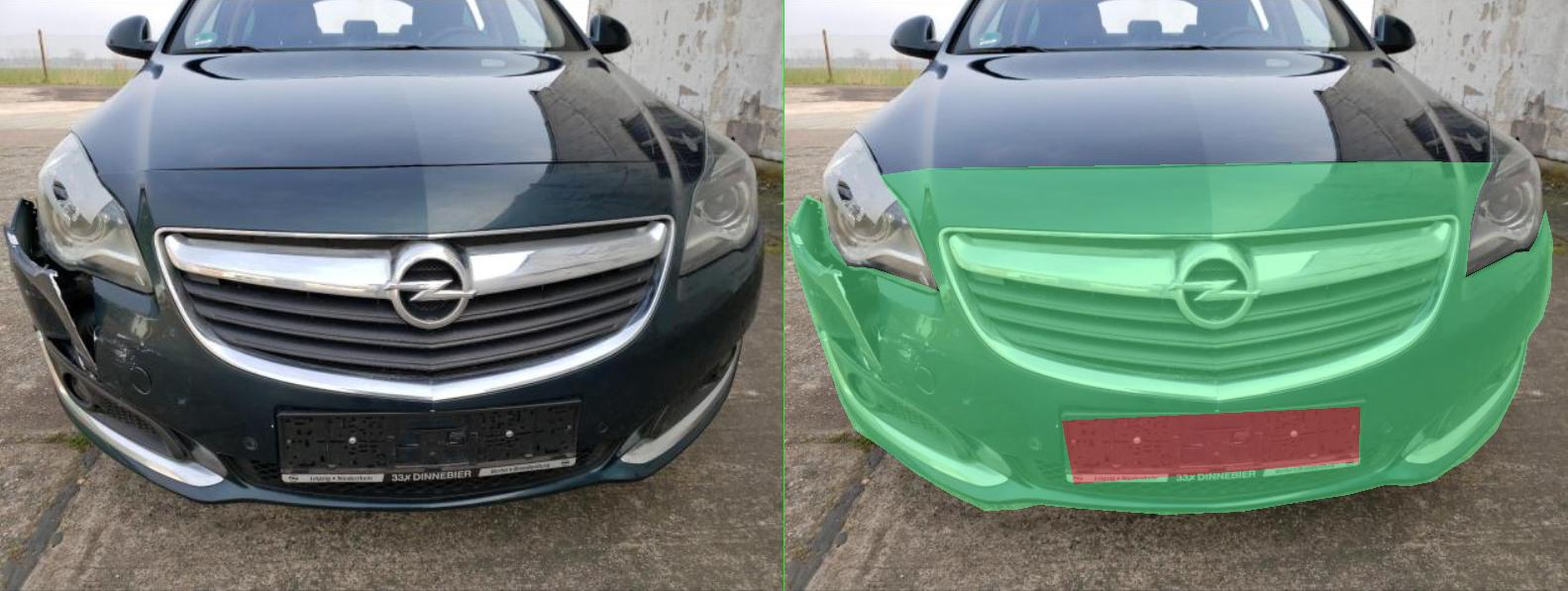Broken part: (4, 161, 1536, 514)
Missing part: (555, 407, 1150, 483)
Scratch: (192, 331, 280, 371), (278, 343, 337, 360), (353, 395, 375, 406)
